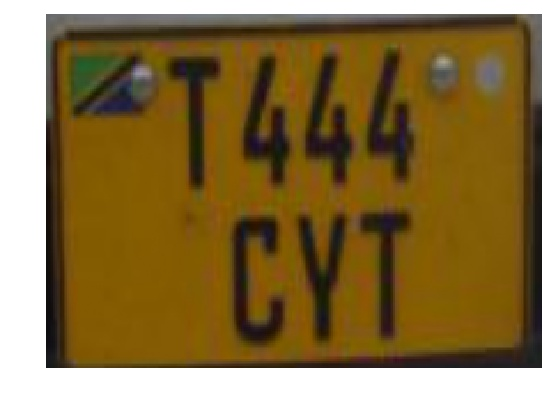T: (157, 46, 232, 197), (352, 205, 428, 347)
